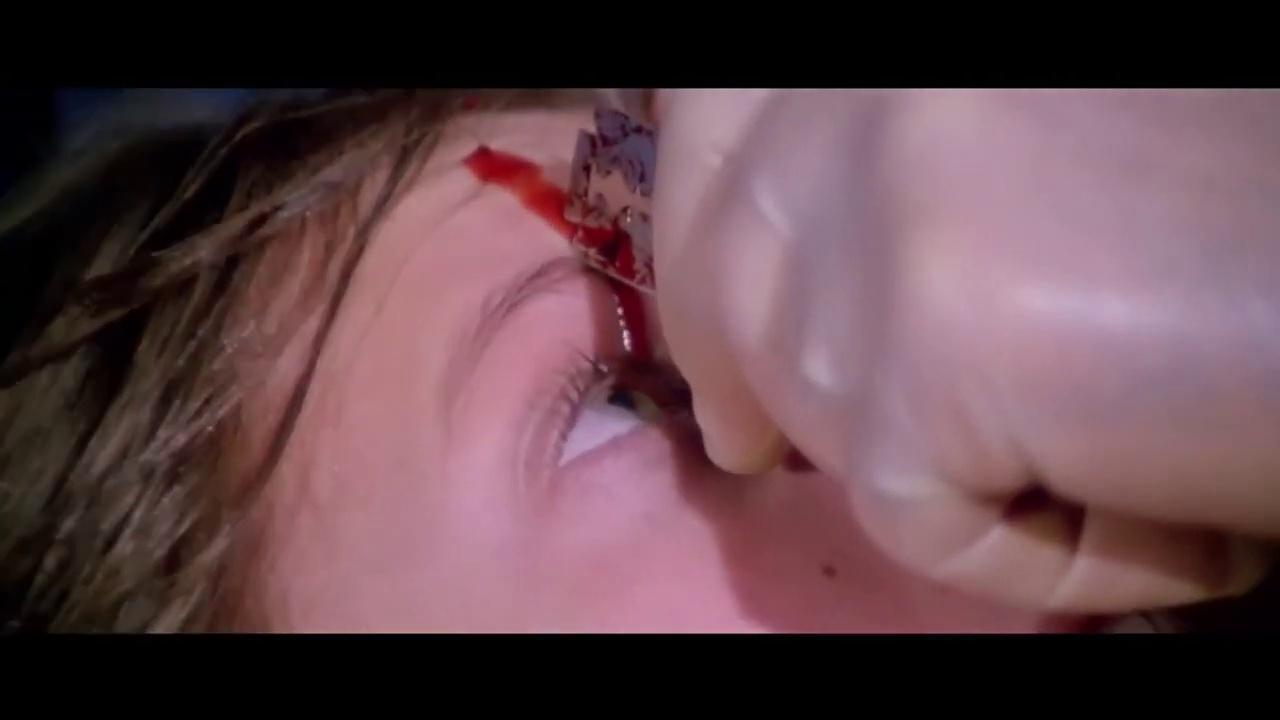Fire: (463, 105, 691, 408)
